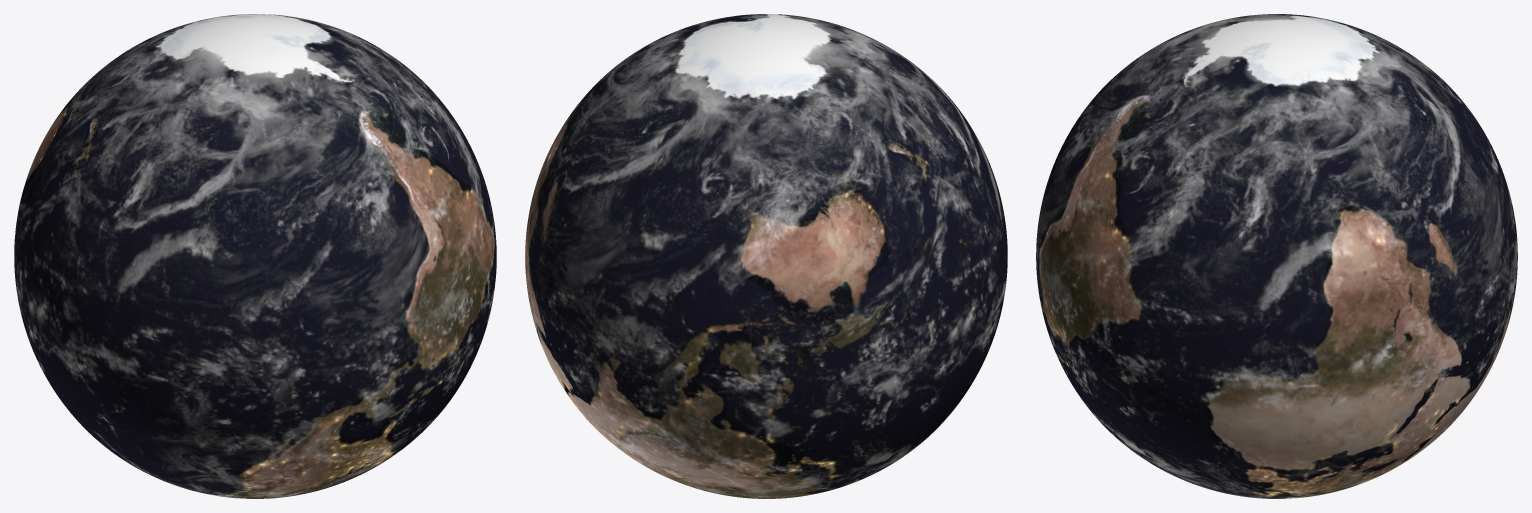
The model's file is Earth.fbx.
3 renders of one model, left to right at view 1: azimuth 30°, elevation 25°; view 2: azimuth 150°, elevation 25°; view 3: azimuth 270°, elevation 25°, orthographic.
Parts seen in each view (by area): view 1: Earth; view 2: Earth; view 3: Earth.
Part boxes in pixels (<box>): Earth: <box>14,14,496,498</box>; Earth: <box>525,14,1007,498</box>; Earth: <box>1036,14,1517,498</box>.
Bounding box in the file's own units: 193 × 195 × 193.
